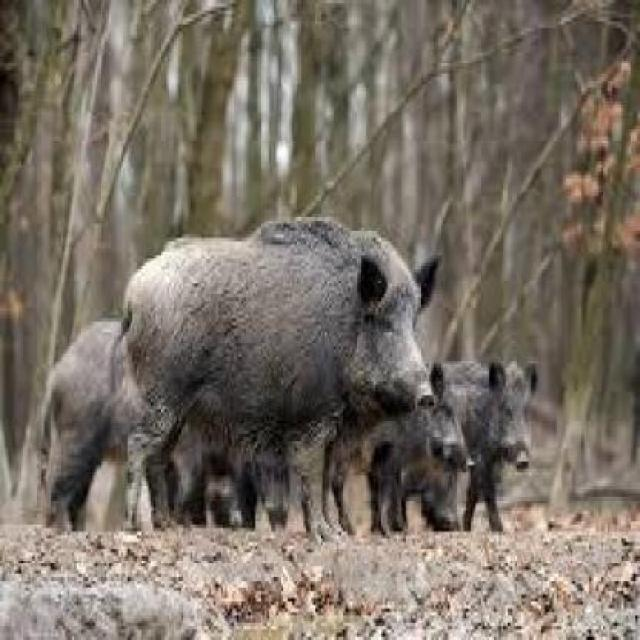wildboar: (99, 202, 447, 555), (25, 306, 244, 526), (376, 335, 553, 537), (298, 356, 484, 544)
